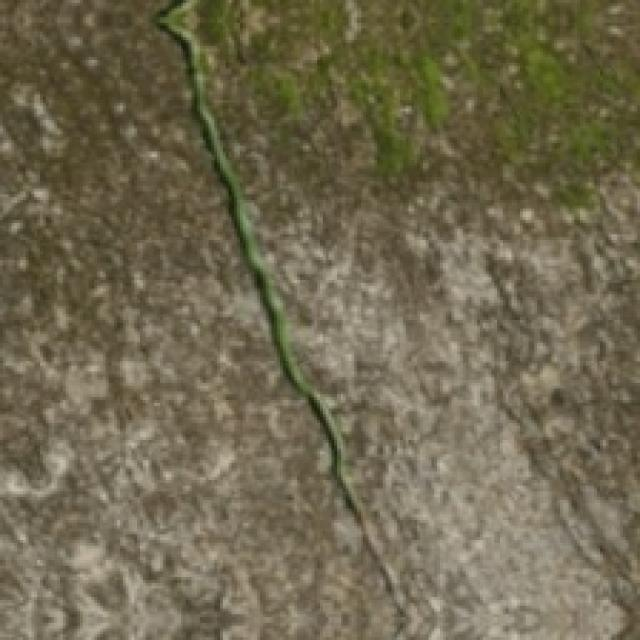red-tailed green ratsnake: (154, 0, 431, 637)
